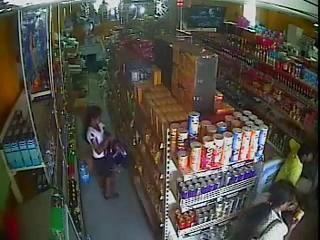Normal: (232, 180, 304, 240)
